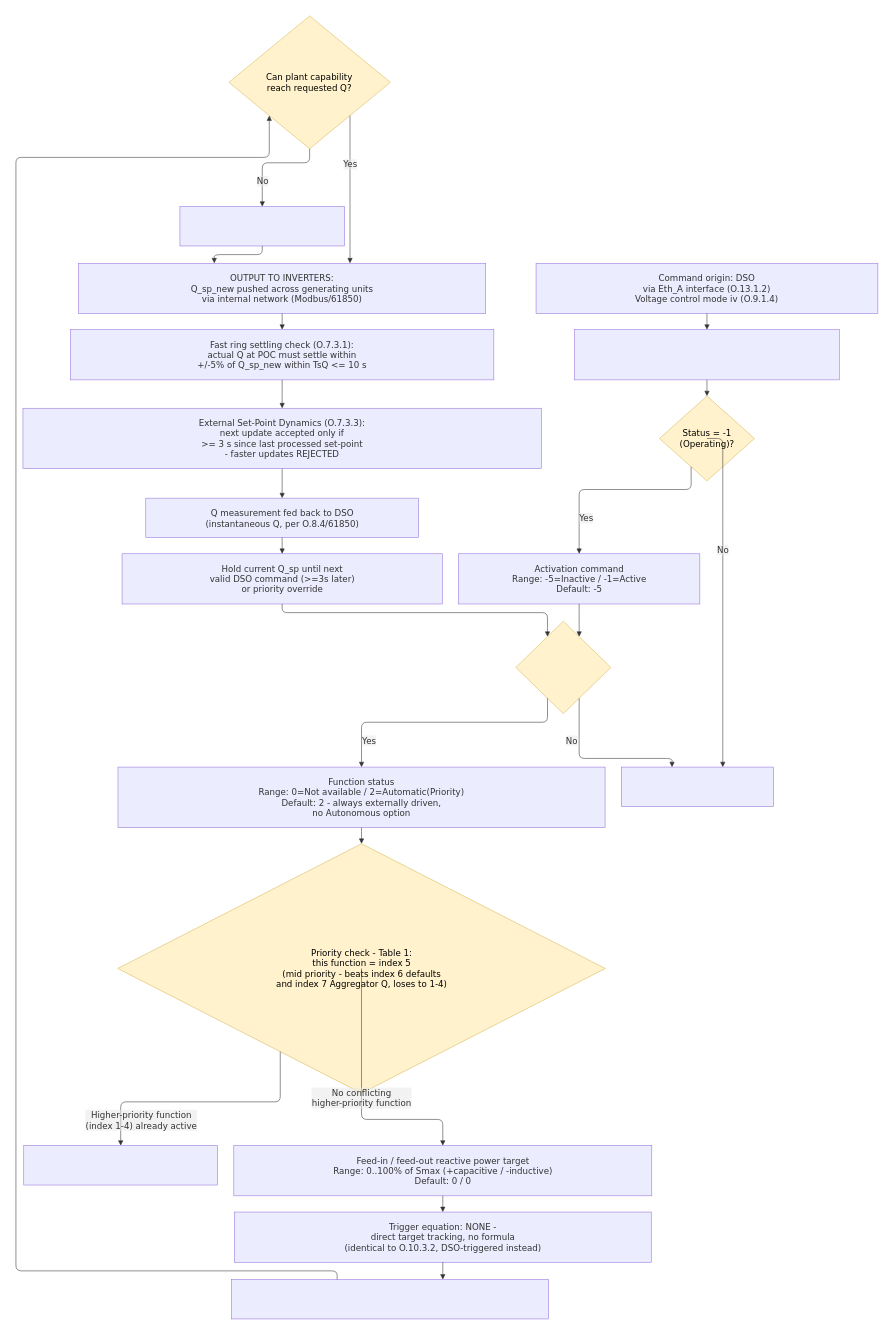
This 887x1328 diagram has some shape labels left out. Each missing label, with the centre of its shape:
"Bring plant to closest achievable Q value" goes at (262,226).
"Command = -1 (Active)?" goes at (563,667).
"Distribute Q target across plant elements (method left to User / plant designer)" goes at (389,1299).
"Function idle - no Q set-point applied" goes at (697,786).
"Not activated - existing function stays in control" goes at (120,1165).
"Operating status Range: -1=Operating / -5=Not-Operating Default: -5" goes at (706,354).
